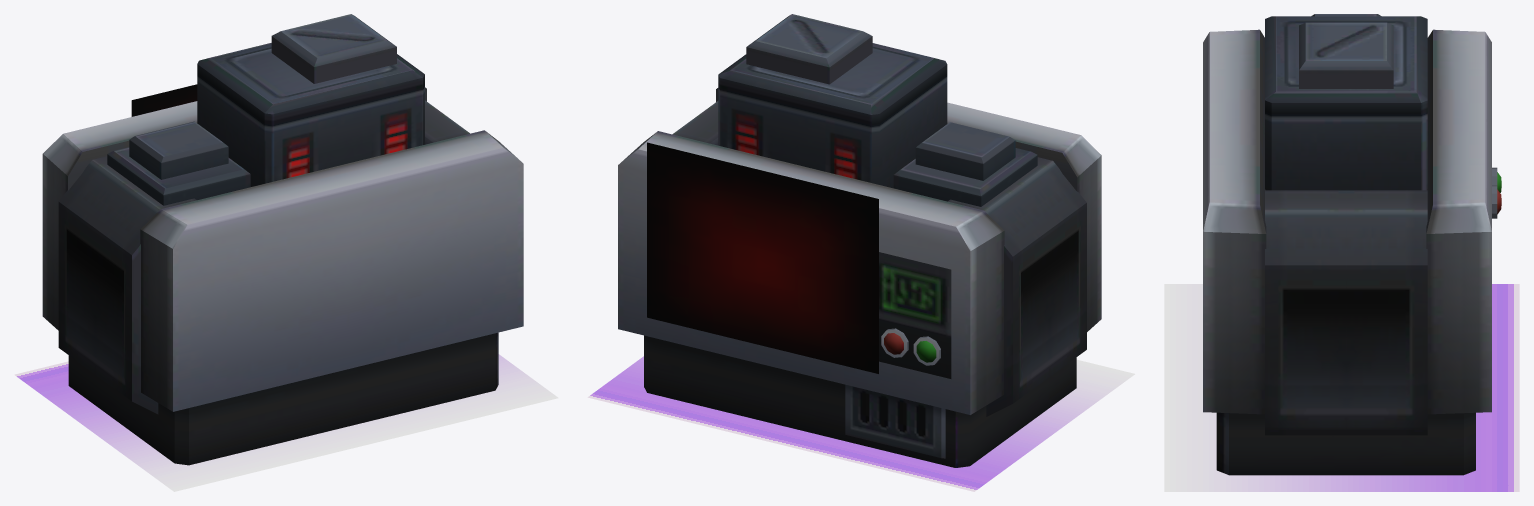
File: obj_process_machine.fbx
3 views of the same model, side by side, from view 1: azimuth 30°, elevation 25°; view 2: azimuth 150°, elevation 25°; view 3: azimuth 270°, elevation 25° (orthographic). The views are drawn at different scales.
Parts seen in each view (by area): view 1: obj_process_machine, shadow, light; view 2: obj_process_machine, light, shadow; view 3: obj_process_machine, shadow.
Part boxes in pixels (box(x1,y1,x2,y2)): obj_process_machine: box(42, 14, 523, 465); shadow: box(14, 354, 558, 491); light: box(131, 84, 197, 116); obj_process_machine: box(618, 14, 1101, 467); light: box(647, 142, 878, 373); shadow: box(587, 356, 1134, 491); obj_process_machine: box(1203, 14, 1501, 475); shadow: box(1164, 284, 1519, 491).
Size of the model in its own units: 3.6 by 3.03 by 2.6.
